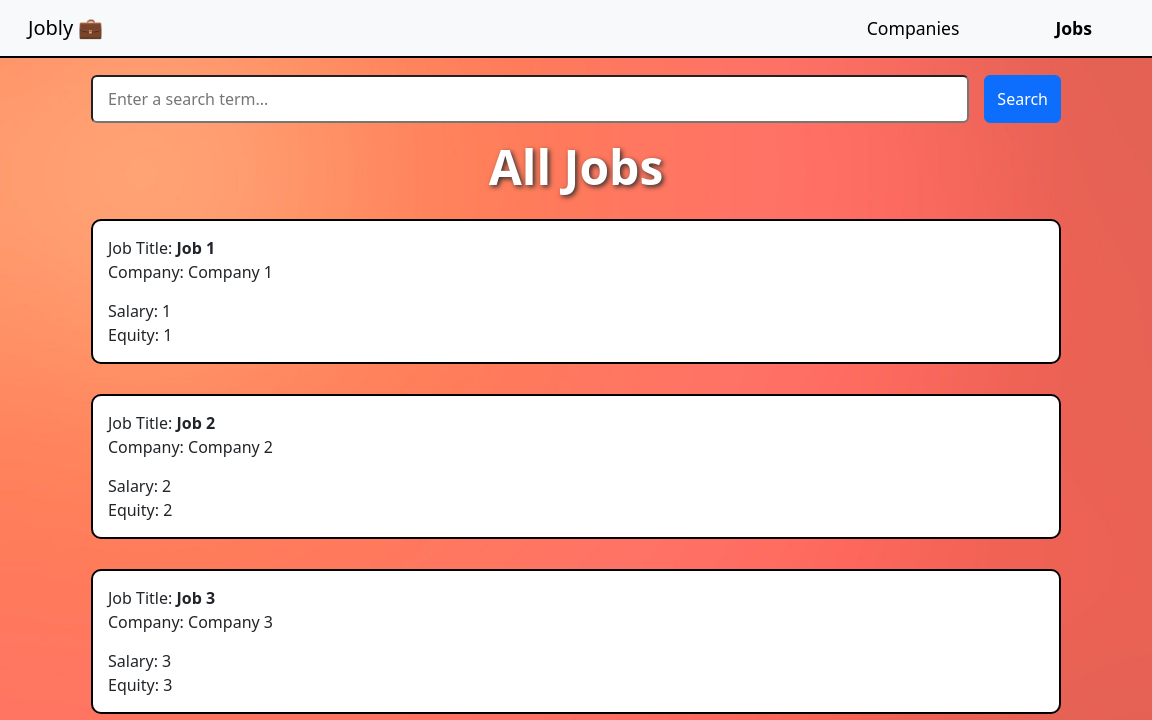
Test: Navigation Tests within App › can be navigated to Companies from Home
Navigating to companies page
Click the link with test id "companies-nav-button". click: click(913, 28)
box: 867,16 -> 959,40
(page scrolled)
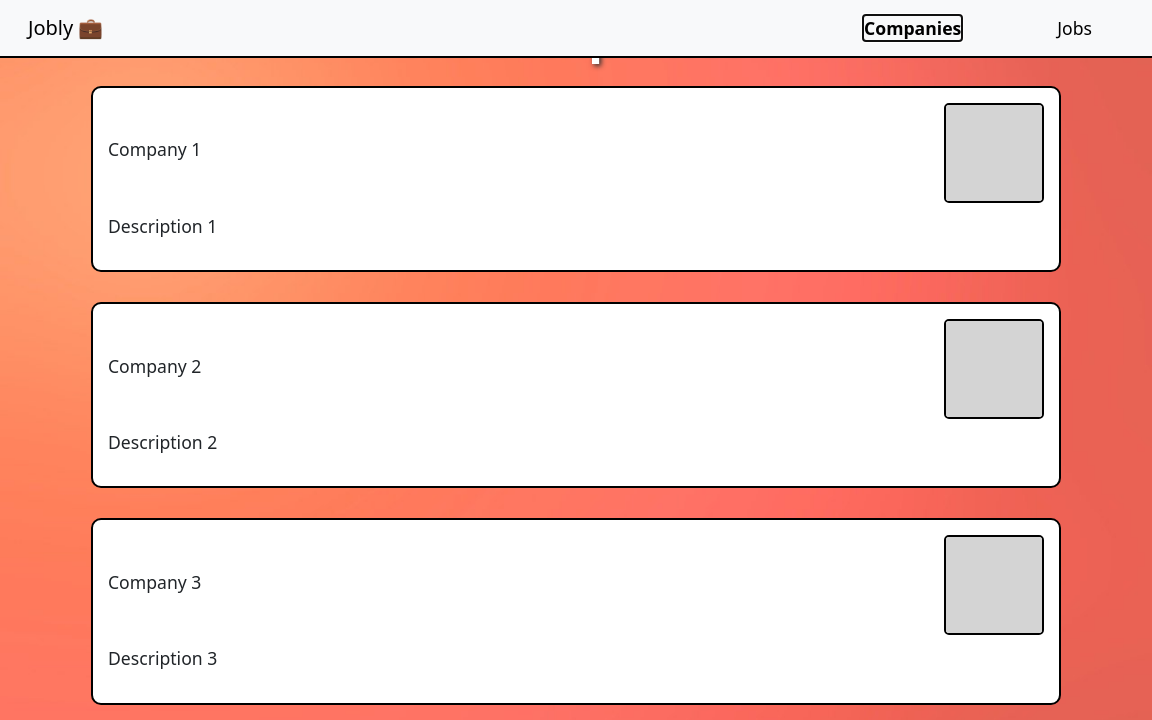
Now the number of links with class "company" is 3, box 91,86 -> 1061,272; 91,302 -> 1061,488; 91,518 -> 1061,705
Now the link with class "company" shows "Company 1", box 91,86 -> 1061,272
Now the link with class "company" shows "Company 2", box 91,302 -> 1061,488
